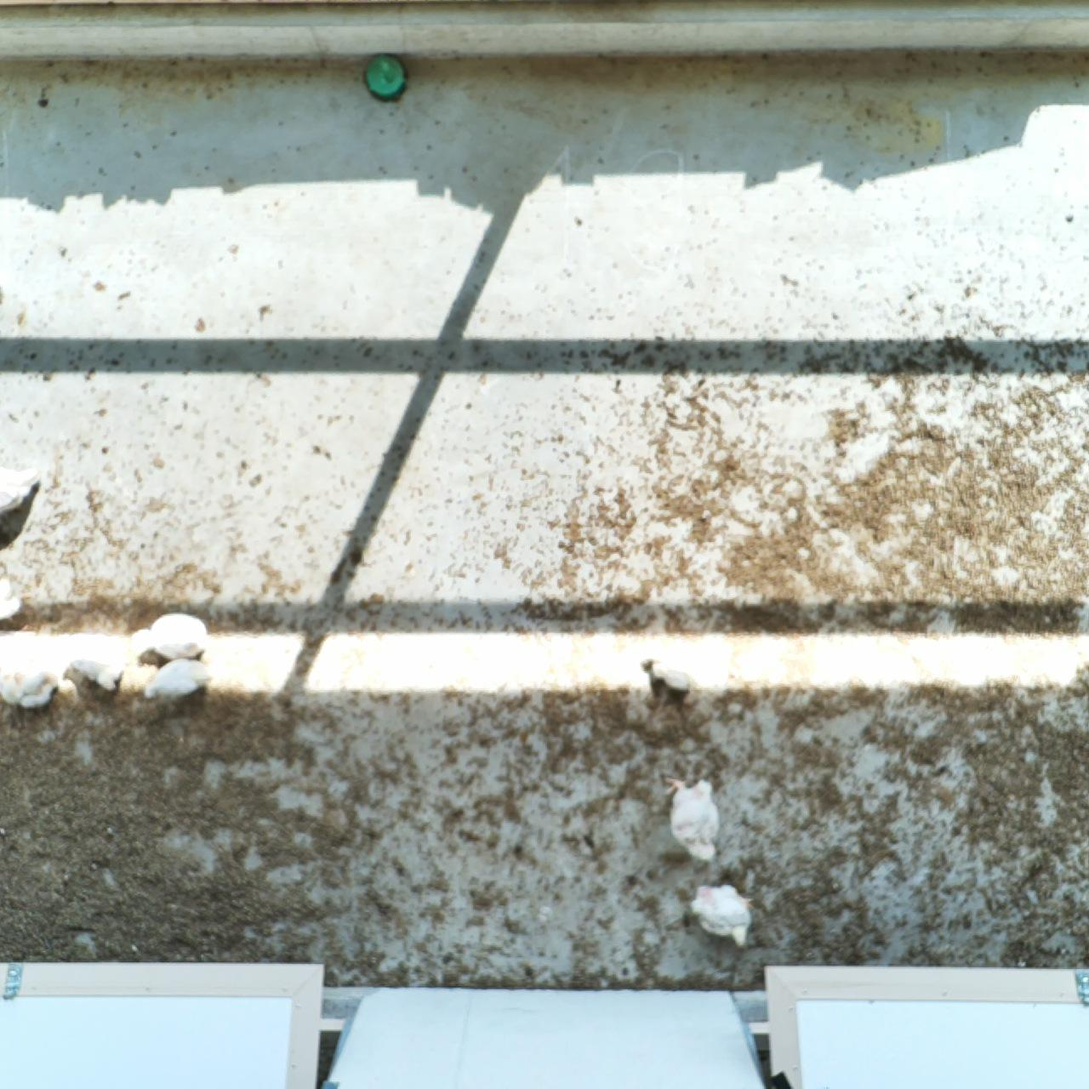chicken: (659, 768, 723, 866), (688, 881, 759, 952), (0, 647, 63, 727), (65, 630, 131, 694), (129, 612, 211, 663), (141, 653, 215, 707), (0, 459, 41, 519), (0, 573, 25, 626)
